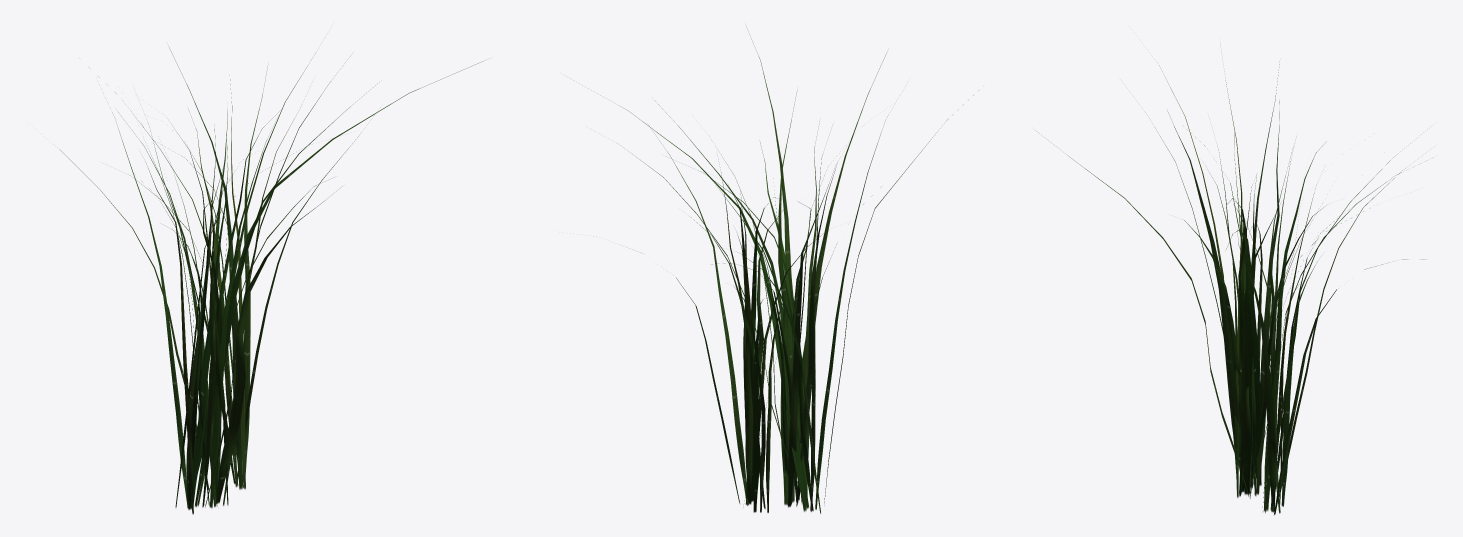
The model's file is Wetland_Cattail_2.glb.
The picture shows the model from 3 angles, left to right: view 1: azimuth 30°, elevation 25°; view 2: azimuth 150°, elevation 25°; view 3: azimuth 270°, elevation 25°; orthographic projection. The views are drawn at different scales.
Visible parts, largest first — view 1: Wetland_Cattail_2; view 2: Wetland_Cattail_2; view 3: Wetland_Cattail_2.
Boxes of the visible parts, x1,y1,x2,y2 form: Wetland_Cattail_2: (57, 47, 484, 514); Wetland_Cattail_2: (579, 29, 978, 513); Wetland_Cattail_2: (1044, 44, 1427, 514).
Size of the model in its own units: 1.7 by 1.81 by 1.57.
Materials: 1 (1 with a texture image).
